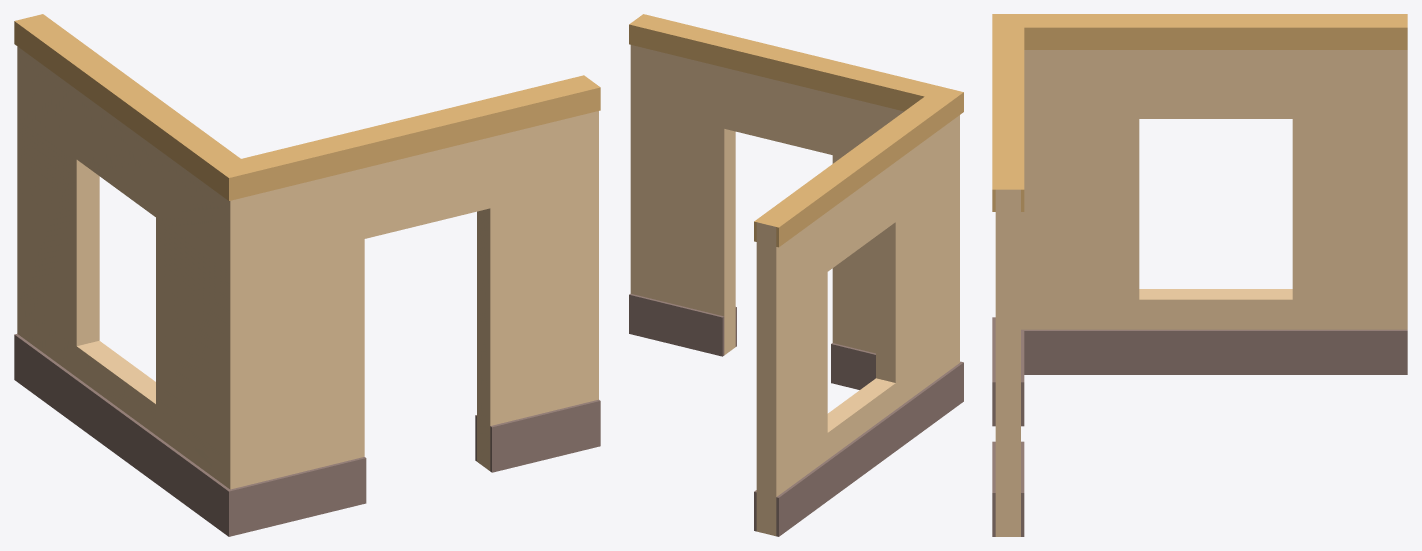
Rendered from Wall02-04.fbx.
3 views of the same model, side by side, from view 1: azimuth 30°, elevation 25°; view 2: azimuth 150°, elevation 25°; view 3: azimuth 270°, elevation 25° (orthographic). The views are drawn at different scales.
Parts seen in each view (by area): view 1: Wall02-04; view 2: Wall02-04; view 3: Wall02-04.
Boxes of the visible parts, <box> form: Wall02-04: <box>14,14,600,536</box>; Wall02-04: <box>629,14,963,536</box>; Wall02-04: <box>992,14,1407,536</box>.
Bounding box in the file's own units: 3.25 × 3.25 × 3.
